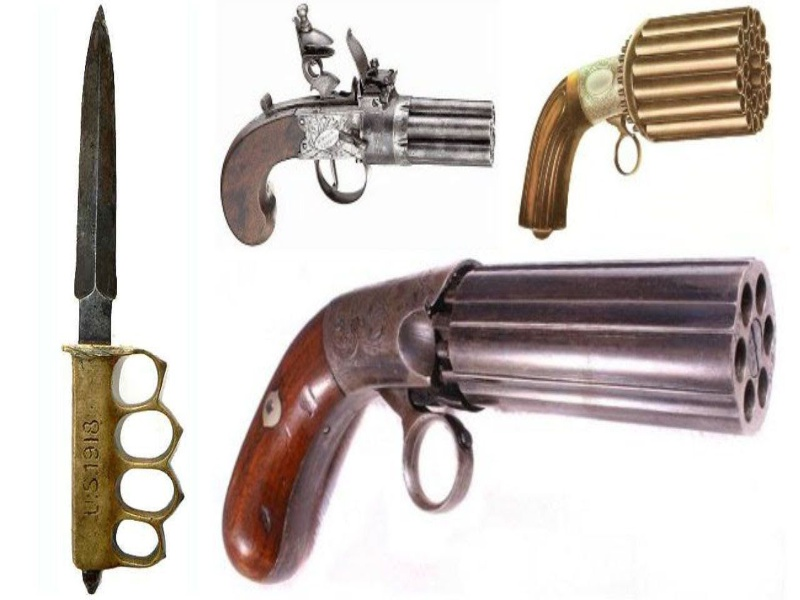gun: (207, 263, 786, 590), (209, 3, 508, 244), (66, 5, 185, 598), (515, 3, 786, 247)
